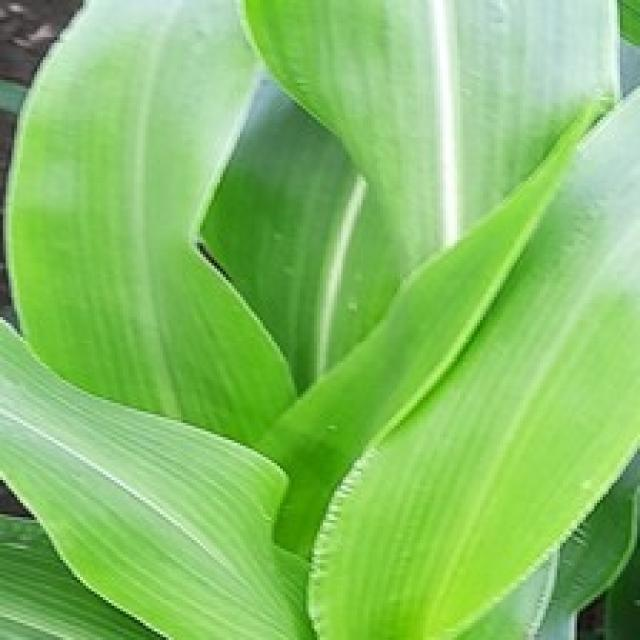Corn: (0, 0, 637, 637), (234, 0, 620, 289)
